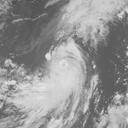cyclone: (42, 38, 88, 94)
